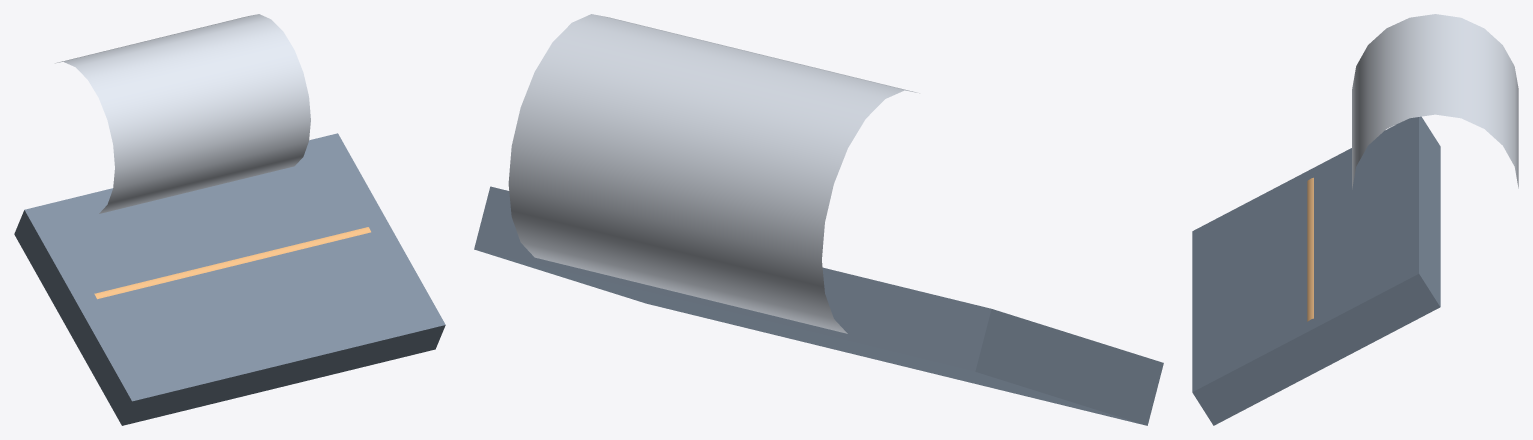
The model's file is solar_thermal_flat_plate_collector.glb.
The picture shows the model from 3 angles, left to right: view 1: azimuth 30°, elevation 25°; view 2: azimuth 150°, elevation 25°; view 3: azimuth 270°, elevation 25°; orthographic projection. The views are drawn at different scales.
Parts seen in each view (by area): view 1: GlazedFlatPlateCollectorCasing, InsulatedStorageCaloriTank, RiserTubeHeaderManifold; view 2: InsulatedStorageCaloriTank, GlazedFlatPlateCollectorCasing; view 3: GlazedFlatPlateCollectorCasing, InsulatedStorageCaloriTank, RiserTubeHeaderManifold.
Boxes of the visible parts, <box> form: GlazedFlatPlateCollectorCasing: <box>14,133,445,425</box>; InsulatedStorageCaloriTank: <box>55,14,310,213</box>; RiserTubeHeaderManifold: <box>94,227,370,299</box>; InsulatedStorageCaloriTank: <box>508,14,919,333</box>; GlazedFlatPlateCollectorCasing: <box>474,186,1163,425</box>; GlazedFlatPlateCollectorCasing: <box>1192,116,1440,425</box>; InsulatedStorageCaloriTank: <box>1352,14,1518,189</box>; RiserTubeHeaderManifold: <box>1307,177,1313,321</box>.
Bounding box in the file's own units: 1.6 × 1.3 × 1.37.
